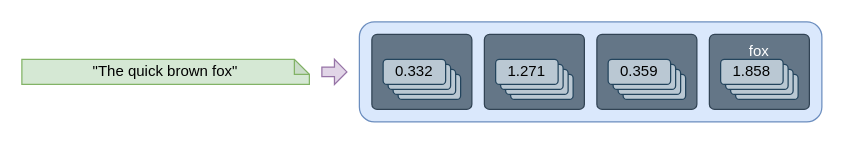
Image size: 844x144. Some labels were removed from this diagram. The shapes that lost their labels are listed below. From the top down, each one's box as (x1, y1, x2, y2) in pixels, then its label:
(371, 33, 472, 109): The
(483, 33, 584, 109): quick
(596, 33, 697, 109): brown
